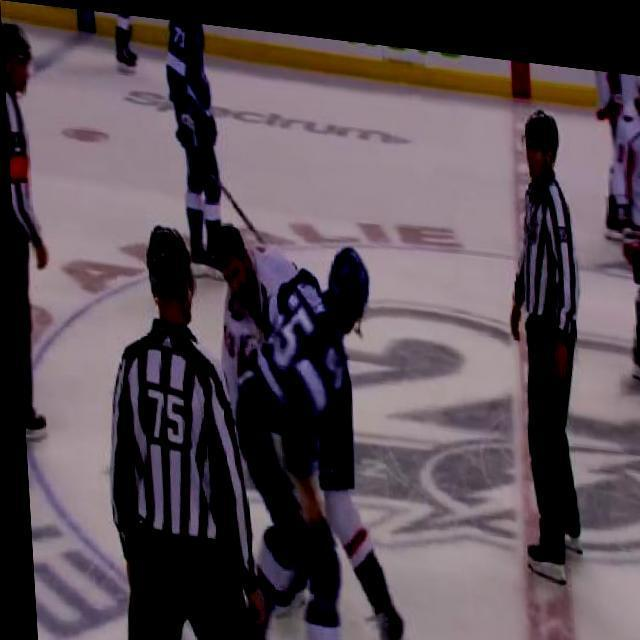fight: (208, 215, 406, 640)
